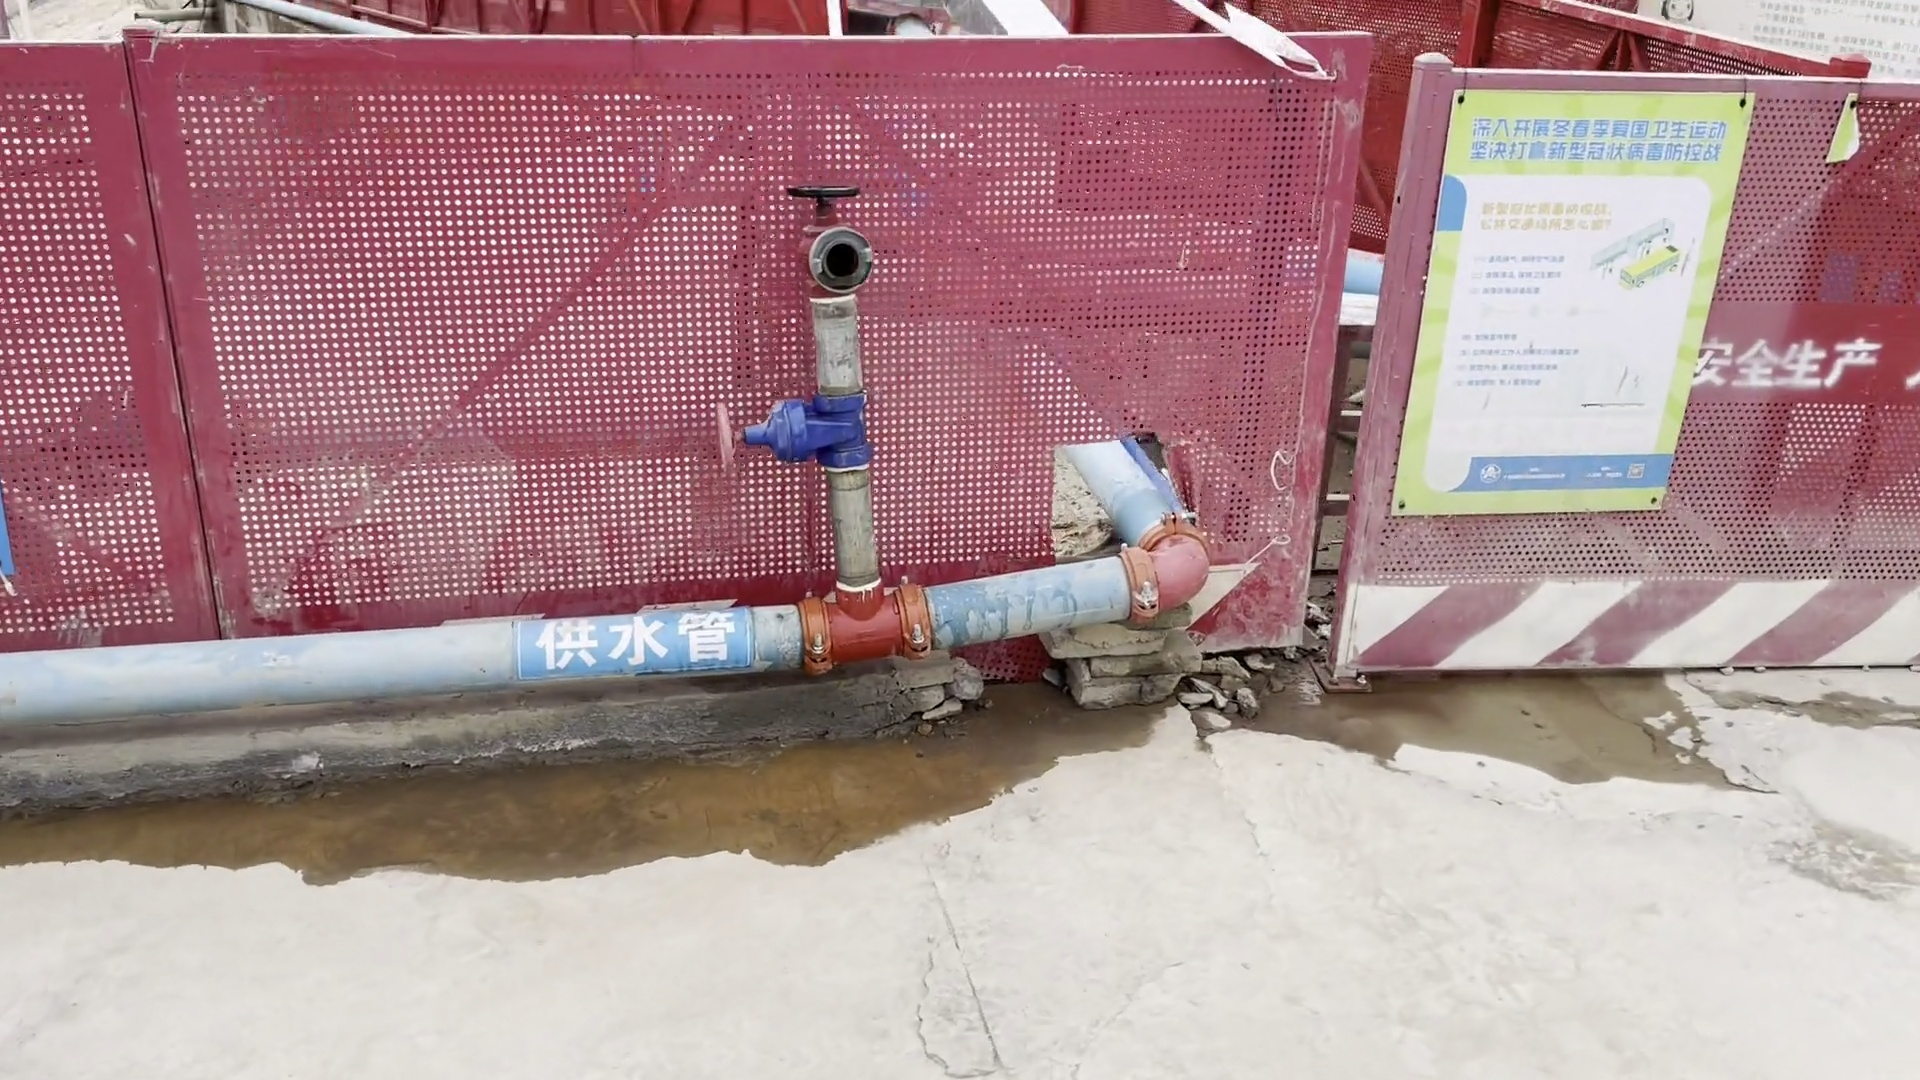fence: (105, 4, 1333, 657), (1323, 22, 1920, 686)
slogan: (1692, 327, 1895, 396)
